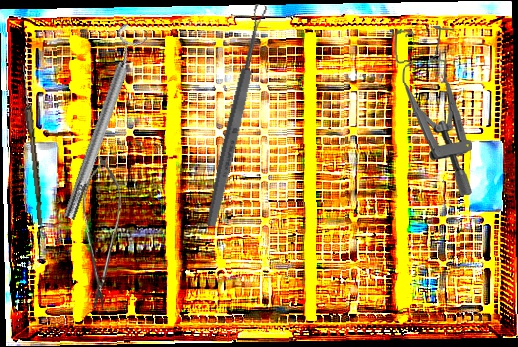Fixation Ring: (51, 21, 153, 224)
Micro Scissor: (81, 155, 122, 309)
Speculum: (394, 25, 474, 198)
Surgical Spoon: (203, 3, 270, 228), (18, 64, 47, 226)
